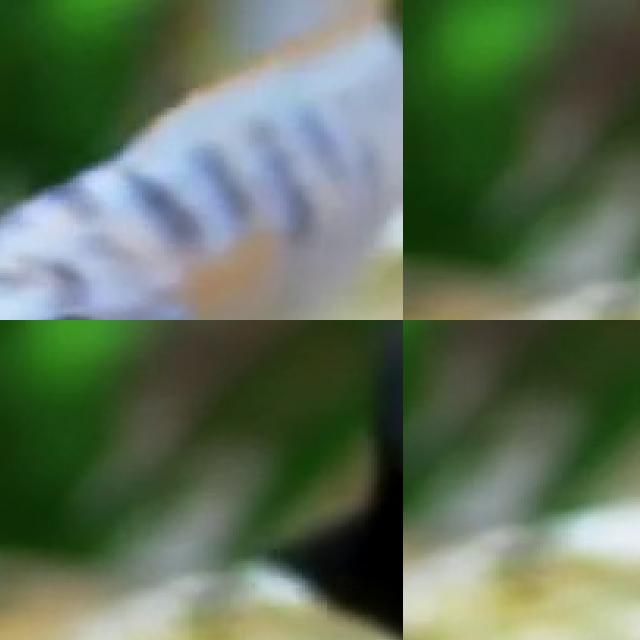fish: (0, 0, 403, 320), (403, 531, 609, 640)
